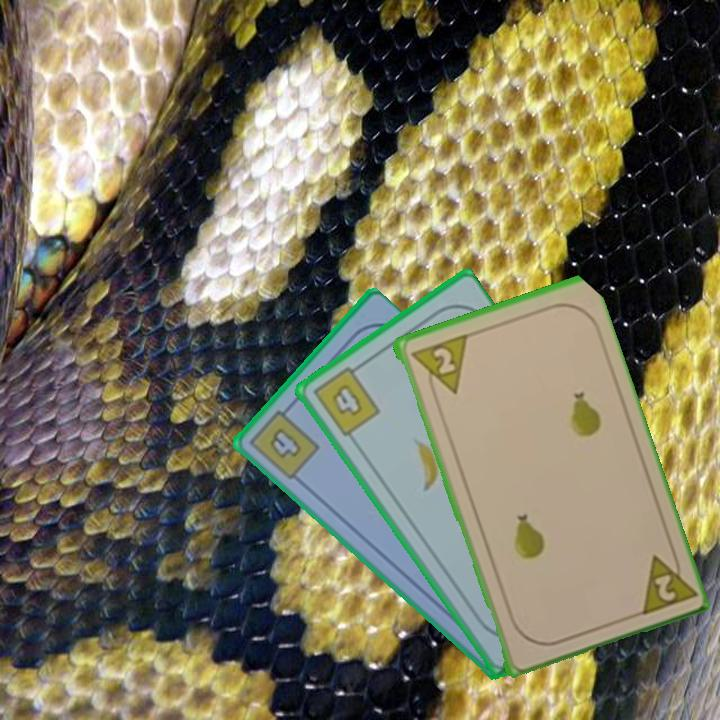2p: (633, 543, 697, 619), (406, 330, 469, 402)
4b: (245, 400, 322, 483), (309, 360, 383, 440)
